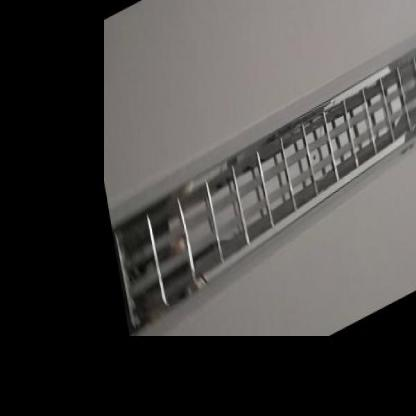light_off: (101, 0, 416, 351)
